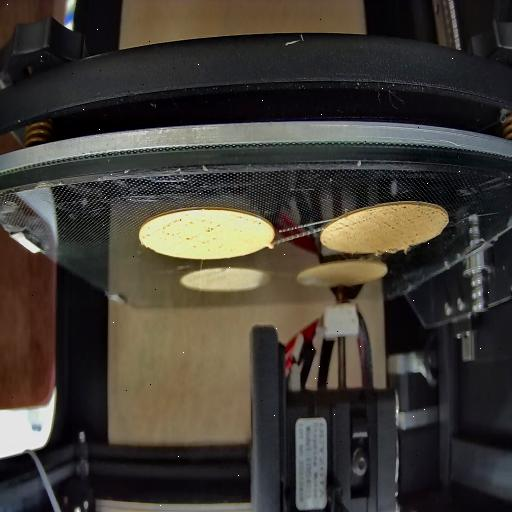under_extrusion: (160, 216, 220, 250), (380, 204, 434, 237), (236, 210, 264, 230), (329, 218, 367, 232)
